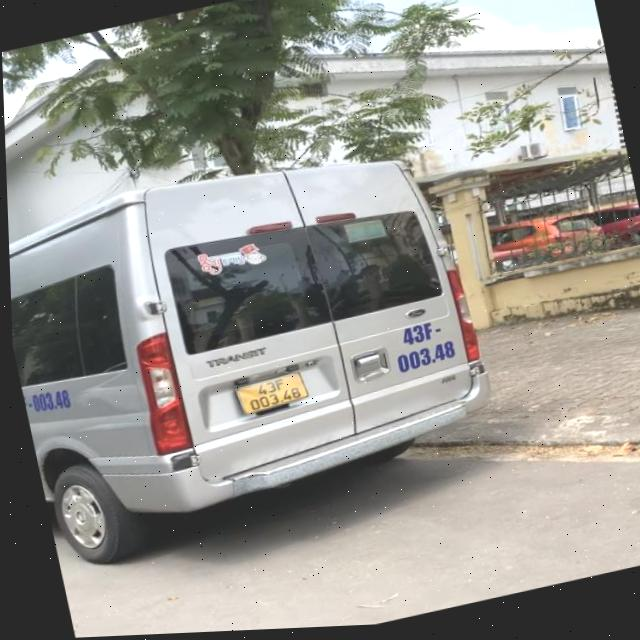car: (5, 121, 508, 574)
plate: (227, 363, 315, 424)
